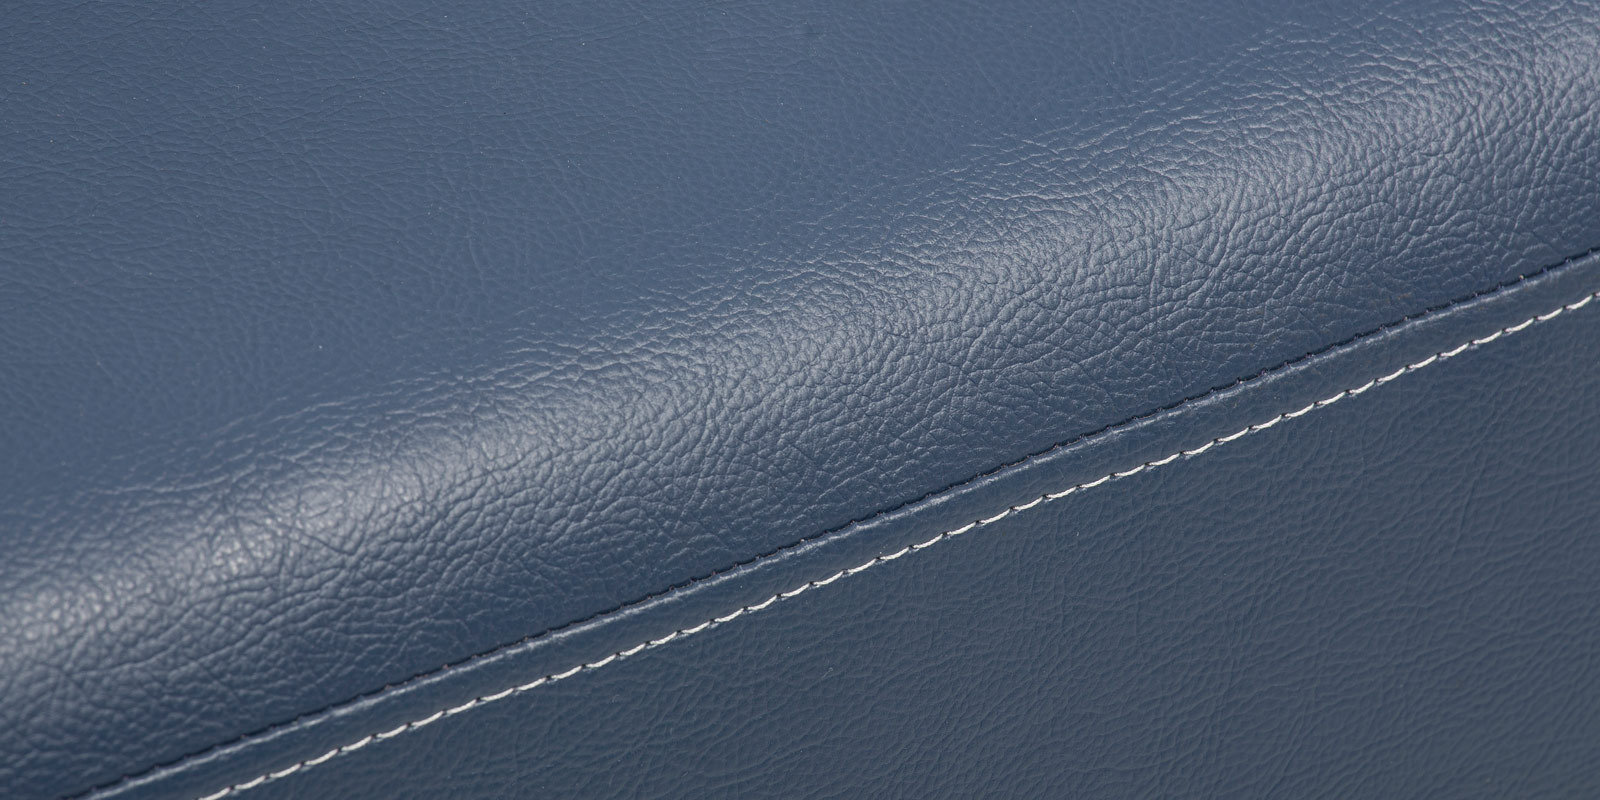Glassgow Heaven Three Seater Sofa with Throw Cushions in Blue Colour by Urban Li: (7, 6, 1590, 800)
